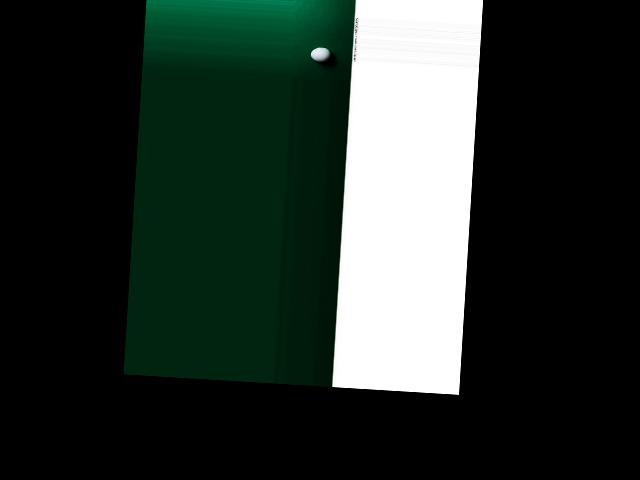egg: (310, 45, 331, 62)
